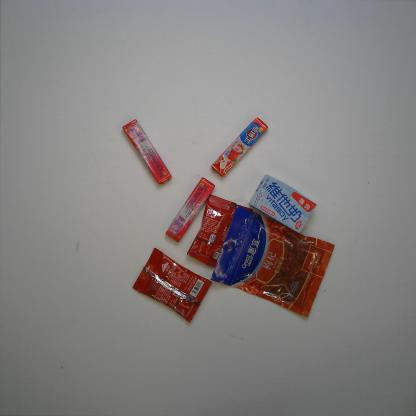Candy: (210, 117, 268, 177), (164, 177, 216, 243), (122, 118, 172, 185)
Dried Fruit: (210, 205, 336, 318)
Instant Drink: (132, 247, 213, 324), (187, 194, 254, 269)
Milk: (248, 174, 316, 234)
